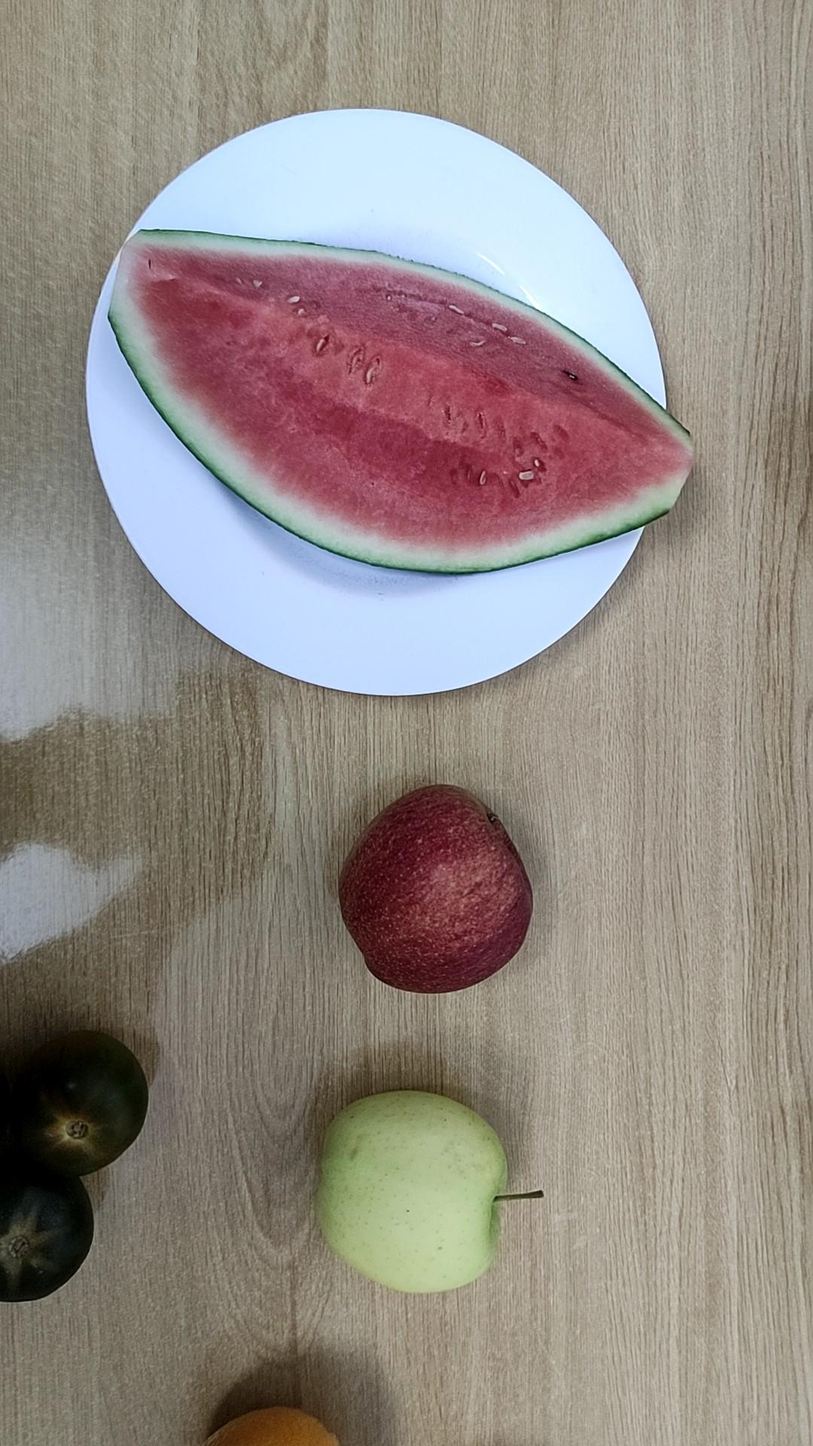fruit: (109, 230, 691, 572), (339, 785, 531, 993), (0, 1032, 148, 1300), (316, 1091, 513, 1292)
